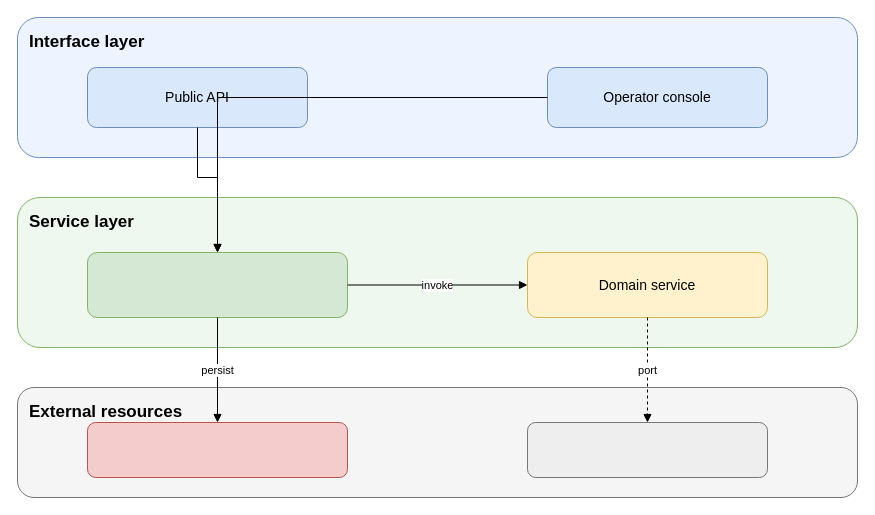
Image size: 875x515. Some labels were removed from this diagram. Each missing label, with the centre of its shape:
"Application coordinator" belongs at pixel 217 285.
"External system" belongs at pixel 647 450.
"Storage adapter" belongs at pixel 217 450.
